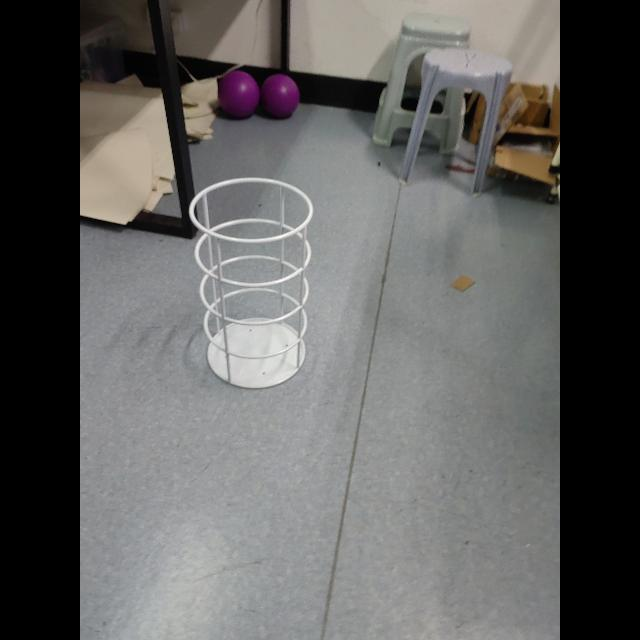S: (186, 175, 318, 392)
